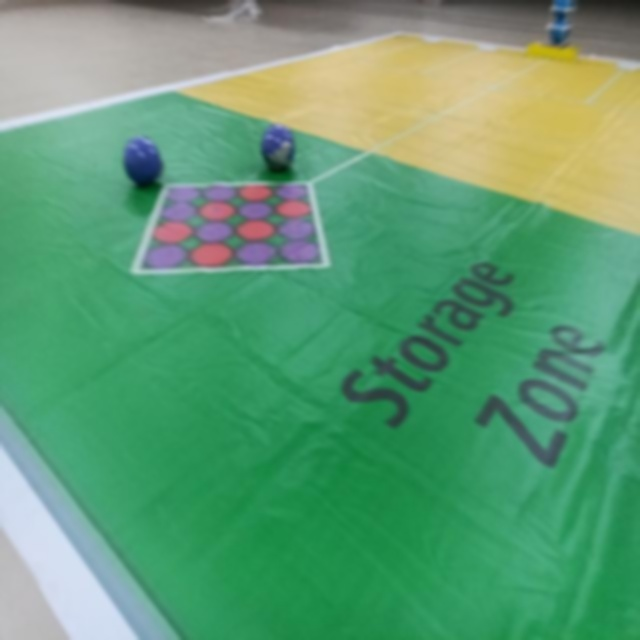purple_ball: (122, 129, 164, 194), (258, 120, 298, 174)
